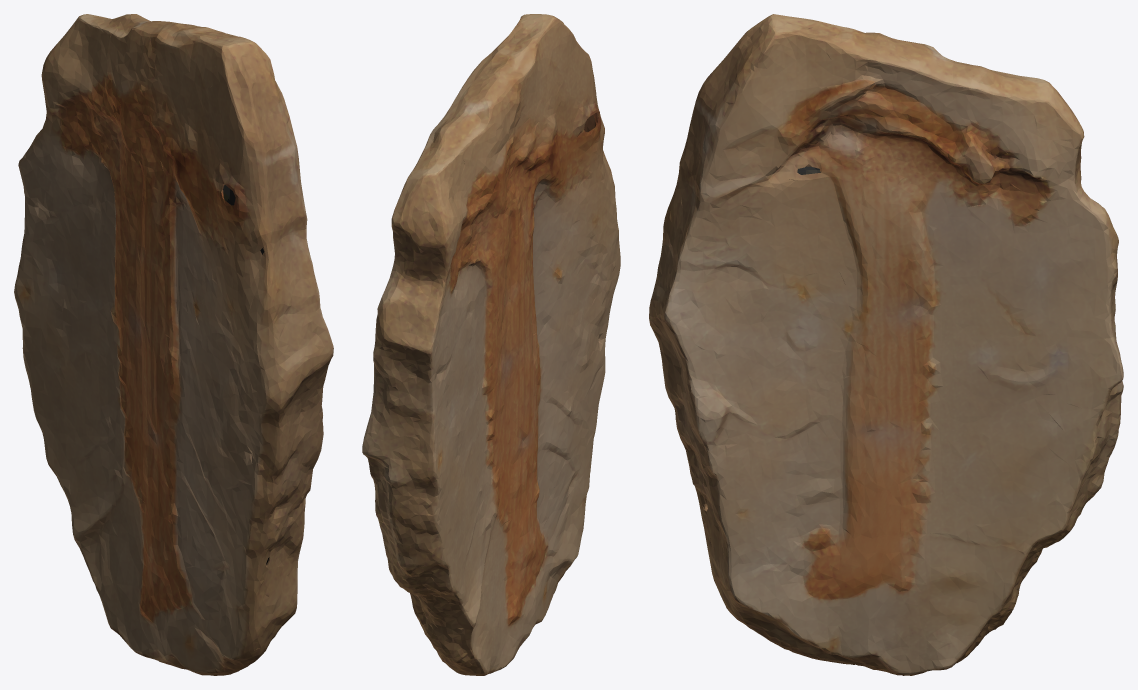
3 views of the same model, side by side, from view 1: azimuth 30°, elevation 25°; view 2: azimuth 150°, elevation 25°; view 3: azimuth 270°, elevation 25° (orthographic). The views are drawn at different scales.
Visible parts, largest first — view 1: world; view 2: world; view 3: world.
Boxes of the visible parts, x1,y1,x2,y2 form: world: (14, 14, 333, 675); world: (362, 14, 620, 675); world: (649, 14, 1123, 675).
Size of the model in its own units: 0.1597 by 0.9934 by 0.6516.
1 material, 1 textured.
